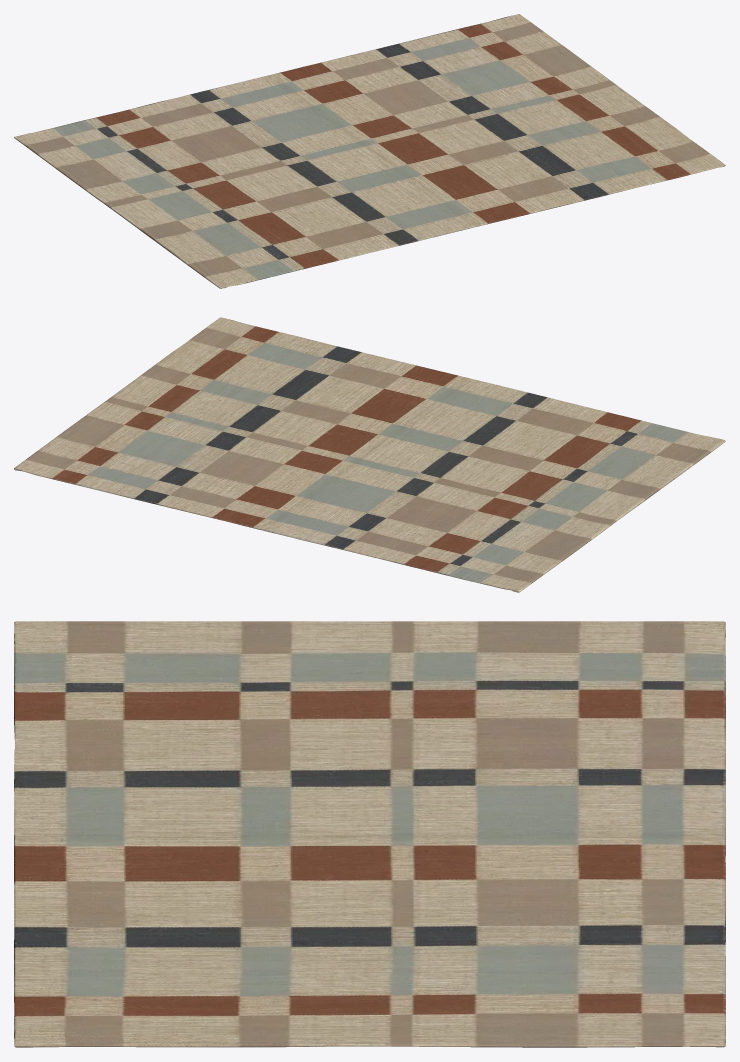
3 views of the same model, one above another, from view 1: azimuth 30°, elevation 25°; view 2: azimuth 150°, elevation 25°; view 3: azimuth 270°, elevation 25° (orthographic). The views are drawn at different scales.
Visible parts, largest first — view 1: ASY_ART_30595706_S01_NV01; view 2: ASY_ART_30595706_S01_NV01; view 3: ASY_ART_30595706_S01_NV01.
Boxes of the visible parts, x1,y1,x2,y2 form: ASY_ART_30595706_S01_NV01: (14,14,725,288); ASY_ART_30595706_S01_NV01: (14,317,725,592); ASY_ART_30595706_S01_NV01: (14,621,725,1047).
Bounding box in the file's own units: 2.4 × 0.00938 × 1.7.
1 material, 1 textured.
